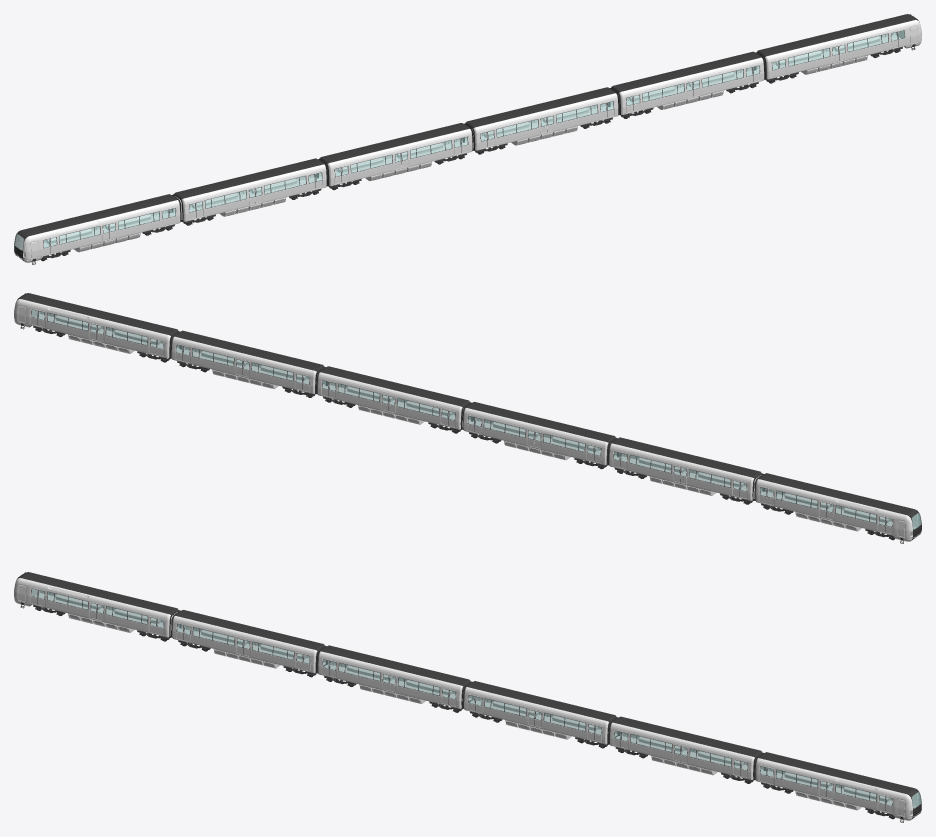
File: che2.gltf
3 views of the same model, one above another, from view 1: azimuth 30°, elevation 25°; view 2: azimuth 150°, elevation 25°; view 3: azimuth 330°, elevation 25° (orthographic).
Parts seen in each view (by area): view 1: 地铁001.001; view 2: 地铁001.001; view 3: 地铁001.001.
Boxes of the visible parts, <box> form: 地铁001.001: <box>14,14,921,264</box>; 地铁001.001: <box>14,293,921,543</box>; 地铁001.001: <box>14,572,921,822</box>.
Bounding box in the file's own units: 213 × 6.88 × 5.25.
6 materials, 1 textured.
